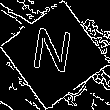N_S: (31, 27, 79, 83)
